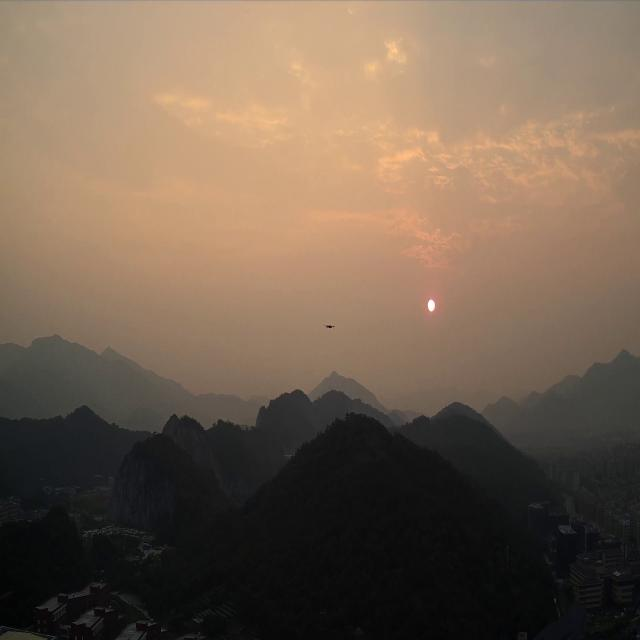drone: (324, 323, 336, 329)
